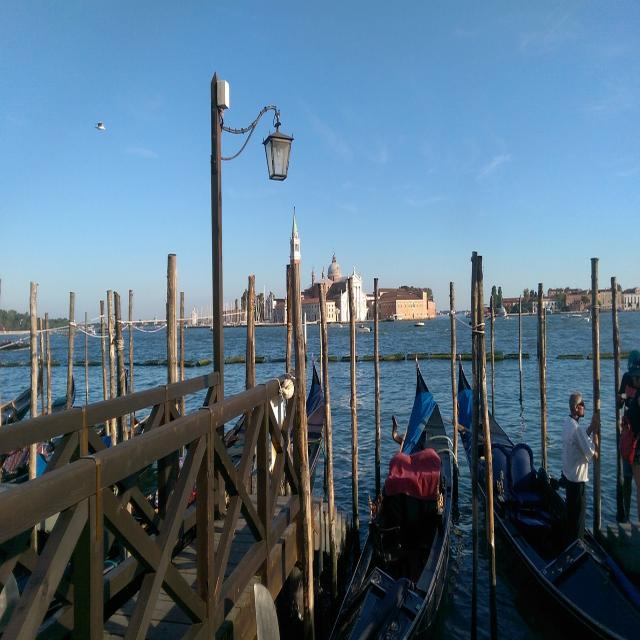boat: (451, 330, 640, 639), (341, 355, 457, 640)
